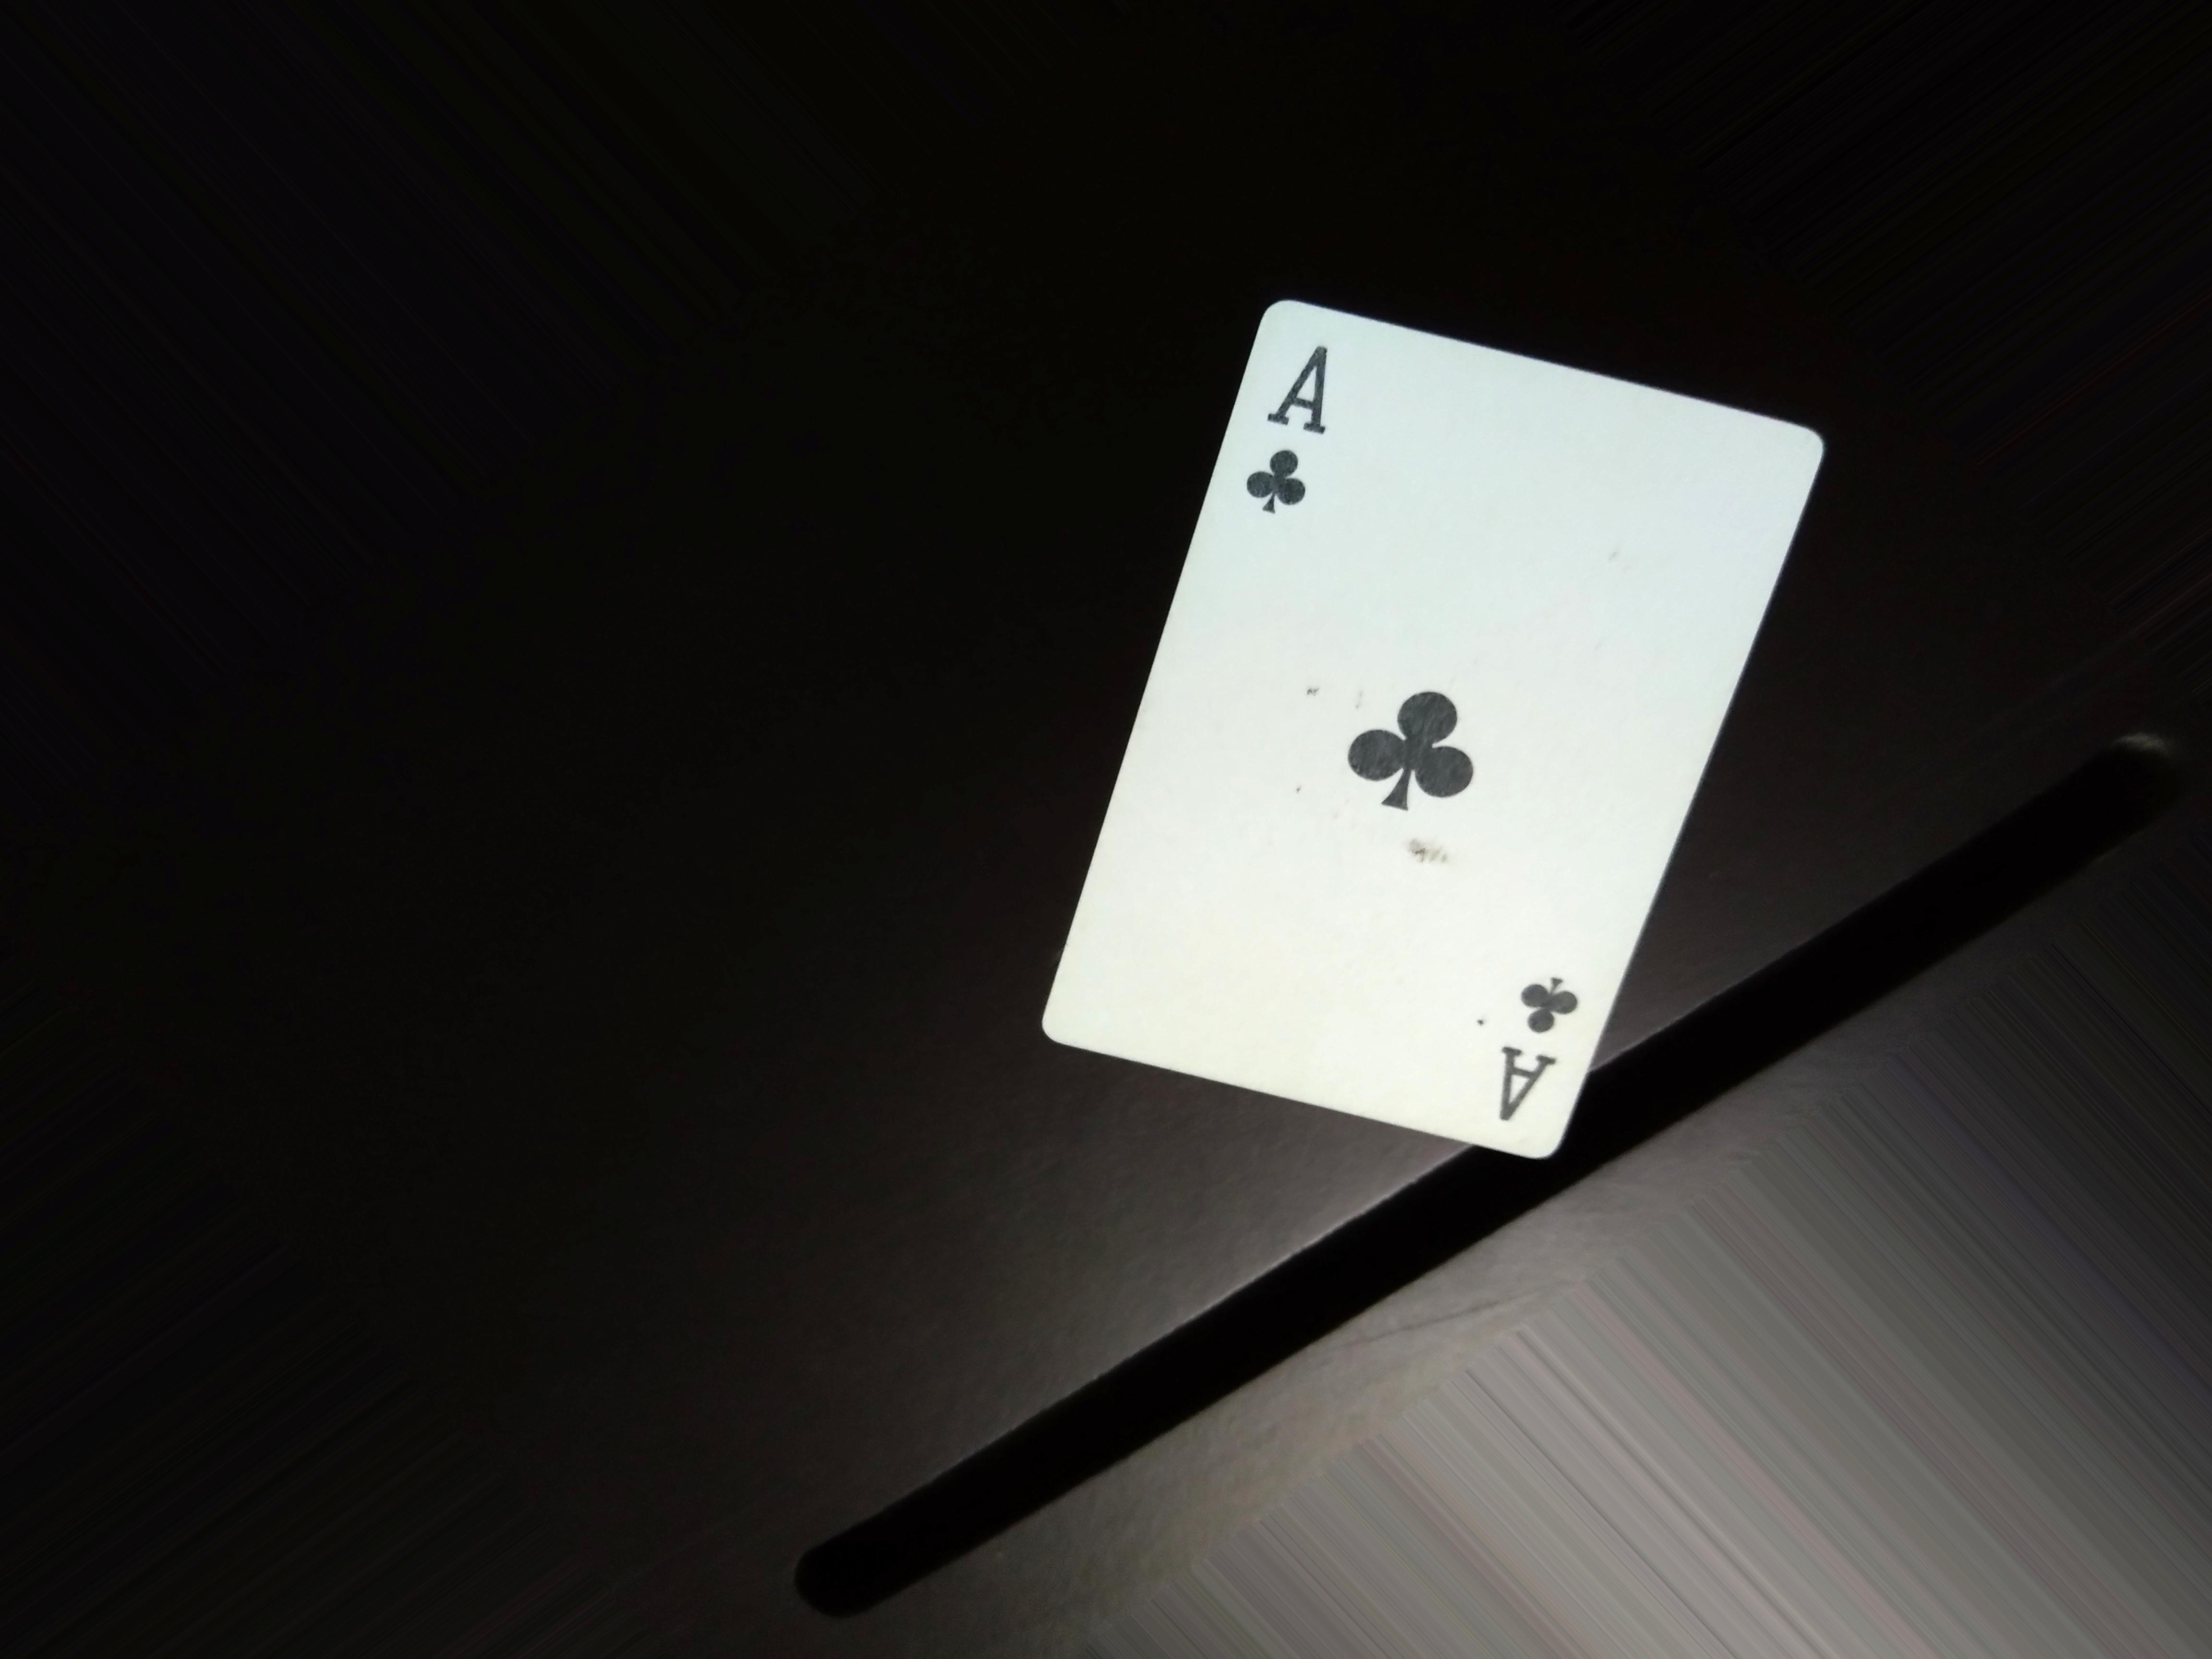AC: (1482, 950, 1585, 1127)
